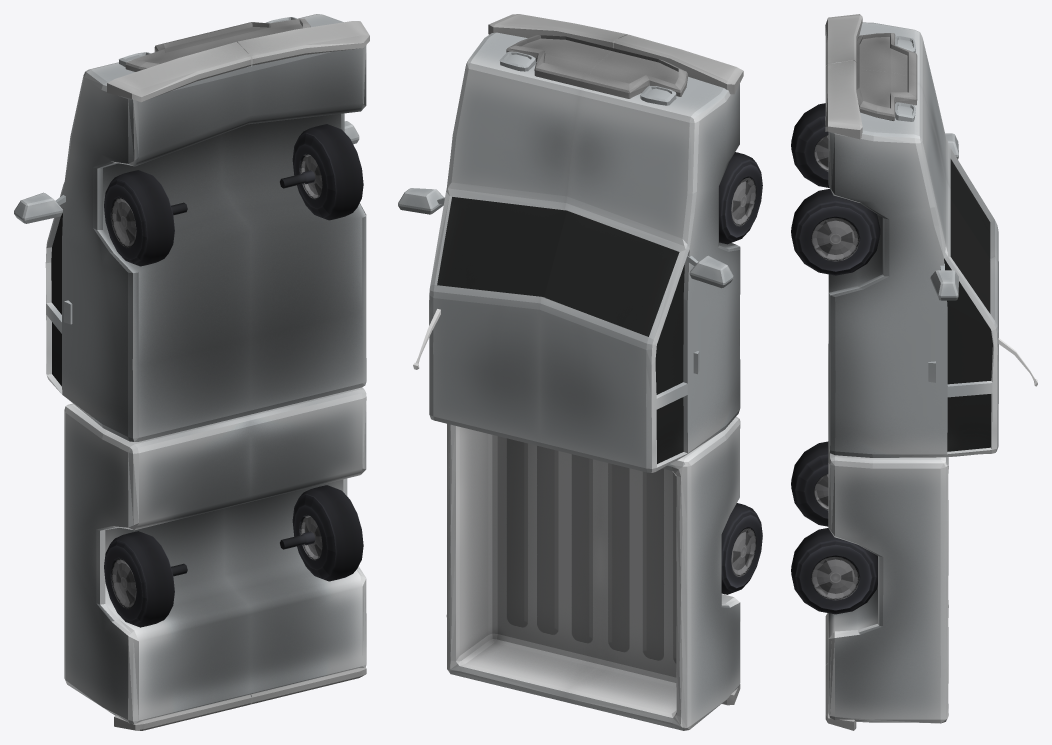
The model's file is Truck01.FBX.
3 views of the same model, side by side, from view 1: azimuth 30°, elevation 25°; view 2: azimuth 150°, elevation 25°; view 3: azimuth 270°, elevation 25° (orthographic). The views are drawn at different scales.
Parts seen in each view (by area): view 1: Box036, Truck01Wheels; view 2: Box036, Truck01Wheels; view 3: Box036, Truck01Wheels.
Boxes of the visible parts, <box> form: Box036: <box>14,14,369,730</box>; Truck01Wheels: <box>104,124,363,627</box>; Box036: <box>398,14,743,730</box>; Truck01Wheels: <box>719,152,762,594</box>; Box036: <box>825,14,1037,730</box>; Truck01Wheels: <box>791,103,880,614</box>.
Bounding box in the file's own units: 16.39 × 11.08 × 30.55.
